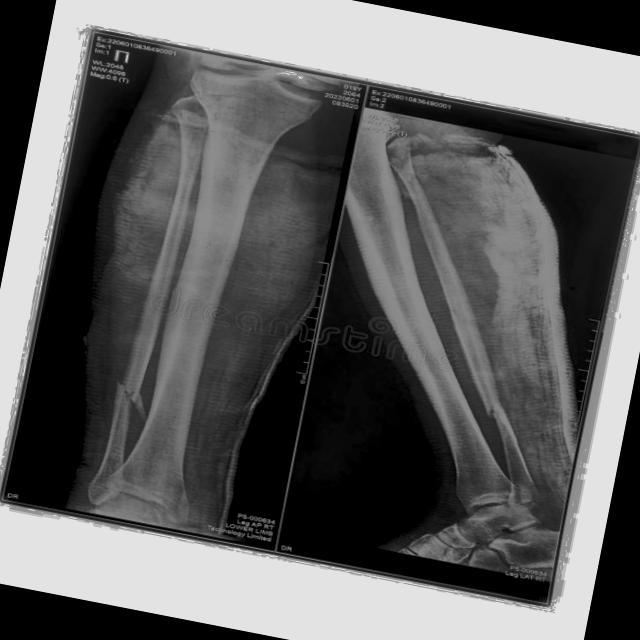Comminuted Fracture: (110, 366, 151, 426), (474, 393, 516, 427)
